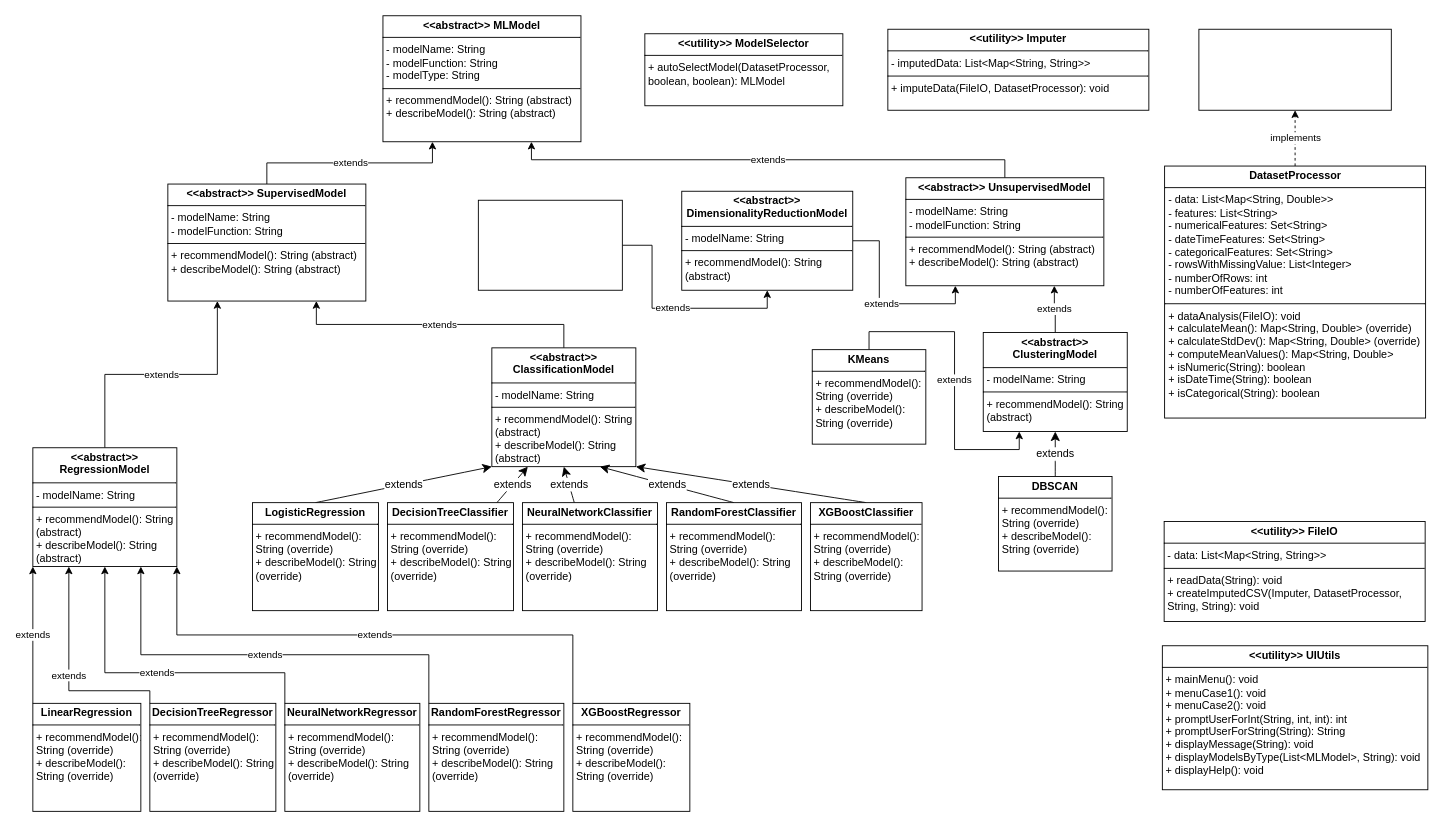
The diagram is 1444 pixels wide and 827 high, and some of its shapes have lost their labels. The centre of each missing label's shape, as x and y in pixels:
<<Interface>> Calculable + calculateMean() + calculateStdDev(): point 1294,69
PCA + recommendModel(): String (override) + describeModel(): String (override): point 549,244
